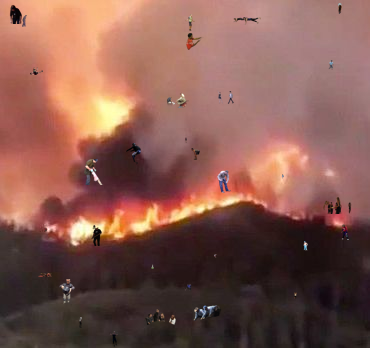Human: (193, 305, 226, 321), (145, 309, 177, 325), (157, 92, 189, 108), (0, 1, 22, 24), (84, 159, 103, 185), (323, 197, 352, 214), (59, 279, 75, 304), (126, 143, 141, 165), (186, 33, 205, 50), (217, 170, 231, 193), (332, 224, 349, 240), (217, 90, 234, 104), (91, 225, 102, 246), (233, 17, 261, 25), (185, 14, 195, 31), (109, 331, 118, 347), (191, 148, 200, 160), (30, 67, 43, 75), (185, 284, 195, 291), (22, 15, 27, 27), (328, 60, 334, 70), (38, 273, 52, 277), (303, 241, 308, 251), (338, 3, 342, 14), (79, 317, 82, 328), (294, 292, 297, 299), (44, 227, 48, 232), (151, 264, 154, 269), (214, 254, 217, 258), (185, 137, 187, 143), (282, 174, 284, 179)
